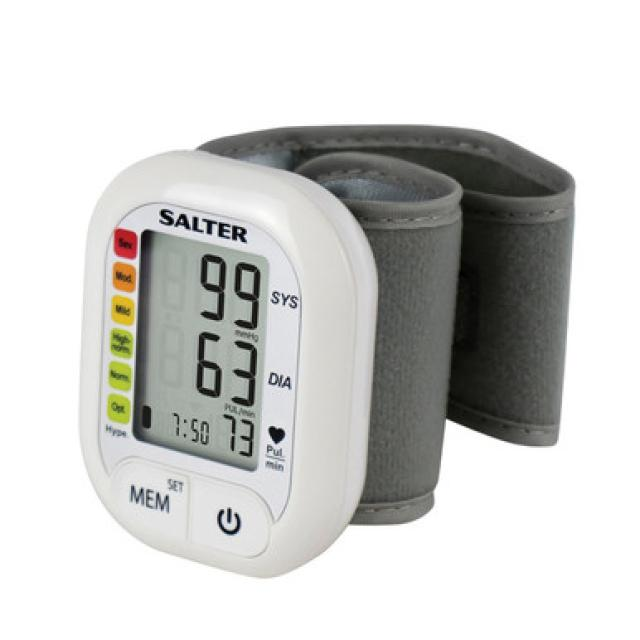dia: (172, 320, 280, 413)
pul: (206, 405, 266, 470)
ssd: (122, 228, 275, 484)
sys: (179, 244, 277, 338)
